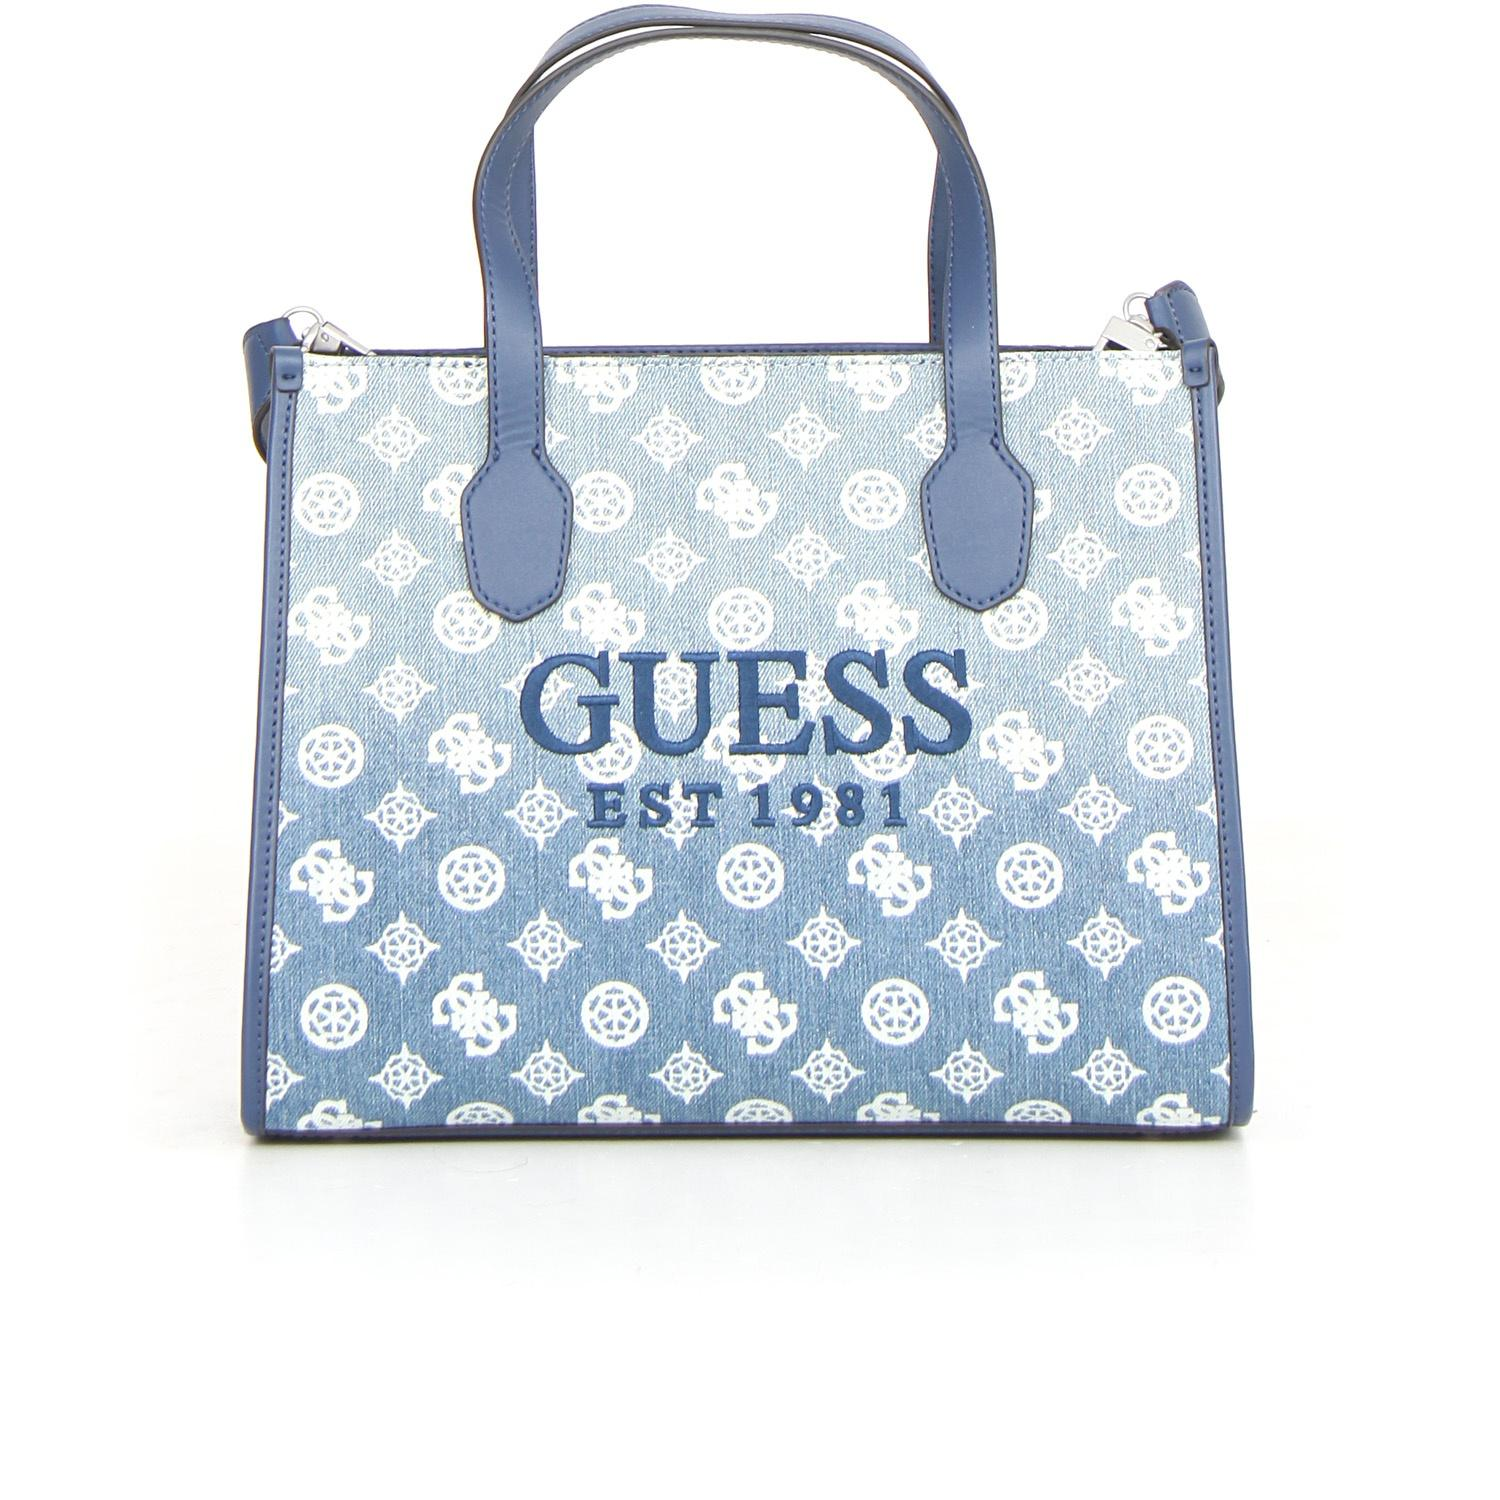GUESS: (519, 648, 973, 757)
